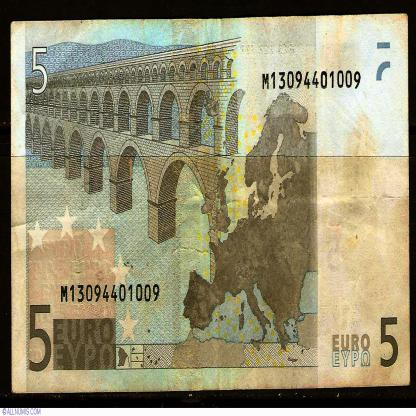euro_banknote: (10, 18, 412, 391)
